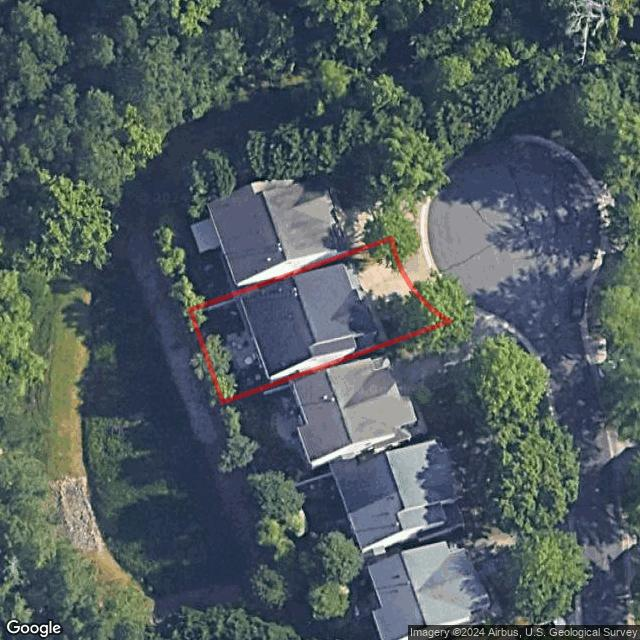Driveway: (352, 248, 414, 316)
Extra-Driveway: (394, 235, 438, 291)
Extra-Lawn: (414, 279, 471, 320), (392, 226, 421, 248)
House: (240, 261, 376, 381)
Lawn: (190, 239, 451, 402)
Other: (220, 332, 260, 373)
Sidewalk: (371, 312, 388, 346)
